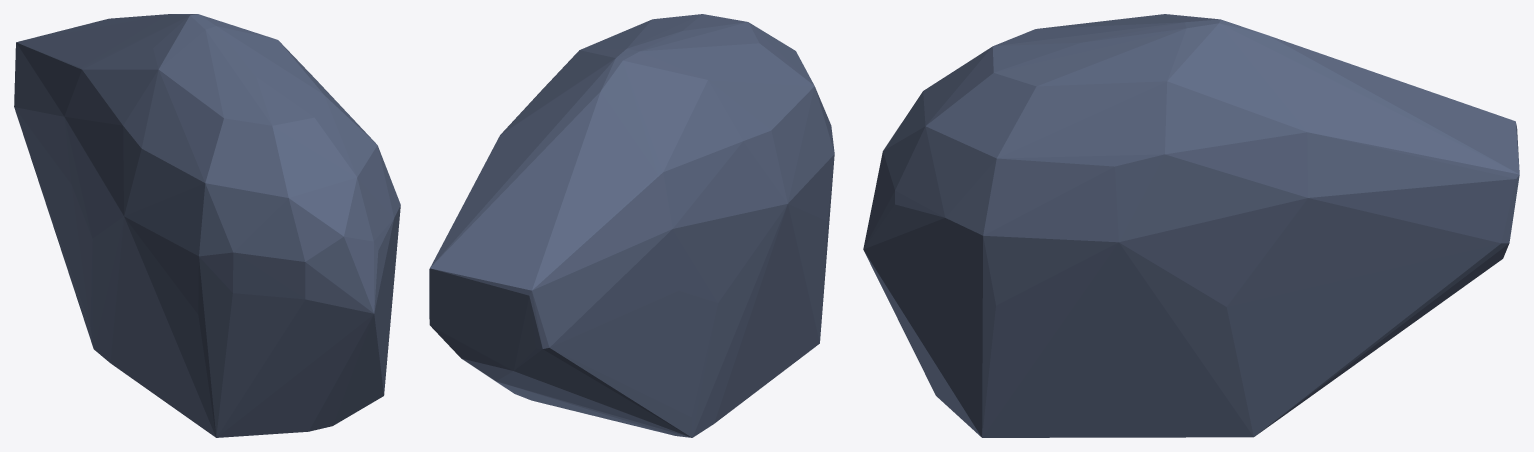
Rendered from creature_smear_boar.glb.
3 views of the same model, side by side, from view 1: azimuth 30°, elevation 25°; view 2: azimuth 150°, elevation 25°; view 3: azimuth 270°, elevation 25° (orthographic). The views are drawn at different scales.
Visible parts, largest first — view 1: Smear; view 2: Smear; view 3: Smear.
Boxes of the visible parts, x1,y1,x2,y2 form: Smear: (14, 14, 400, 437); Smear: (429, 14, 834, 437); Smear: (863, 14, 1519, 437).
Size of the model in its own units: 1.08 by 1.48 by 2.38.
